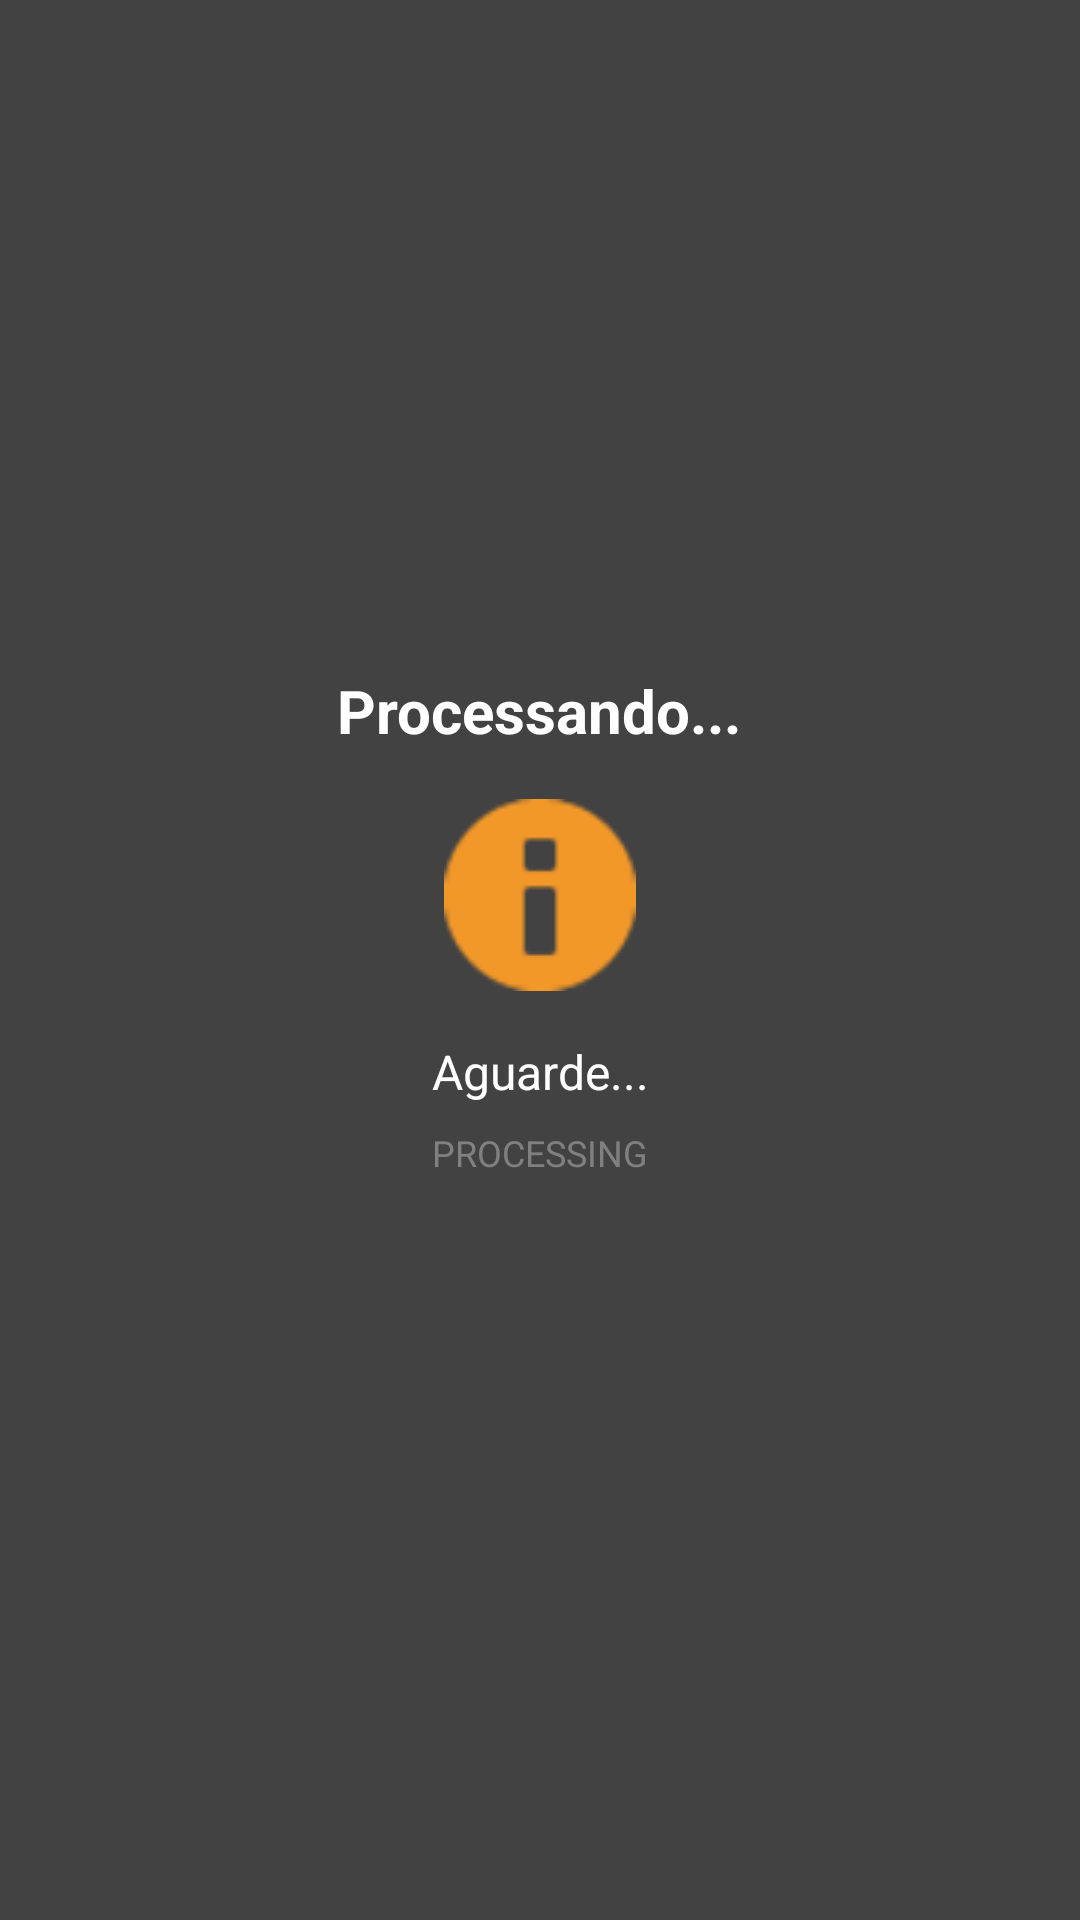

Point at icon controls on the screen. Image size 1080w x 1920h, points as [x,y].
info: [540,895]
